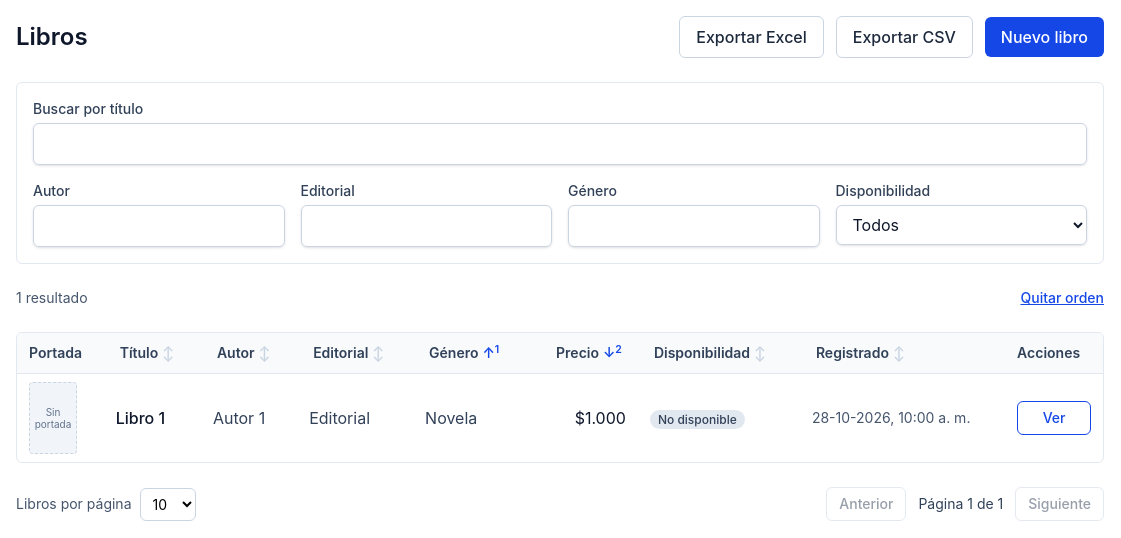
Test: BooksPage › sorting › removes the whole order with "Quitar orden"
This screenshot has width=1121, height=538.
Expected: the text "1 resultado" is shown, [16, 288, 88, 308]
Click the button "Quitar orden" at coordinates (1062, 298), box [1020, 288, 1104, 308]
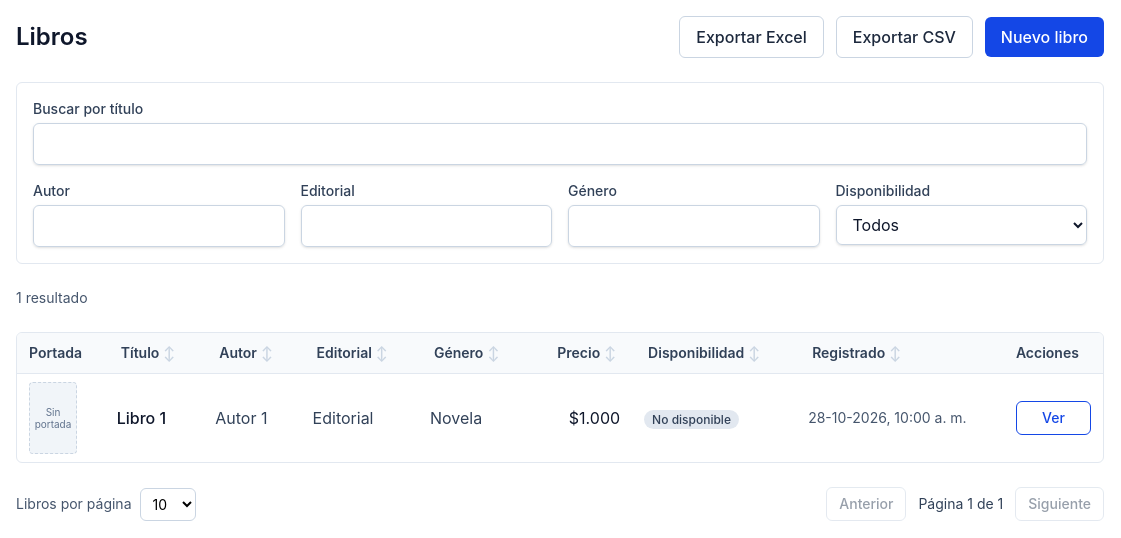
Now the button "Quitar orden" is gone
